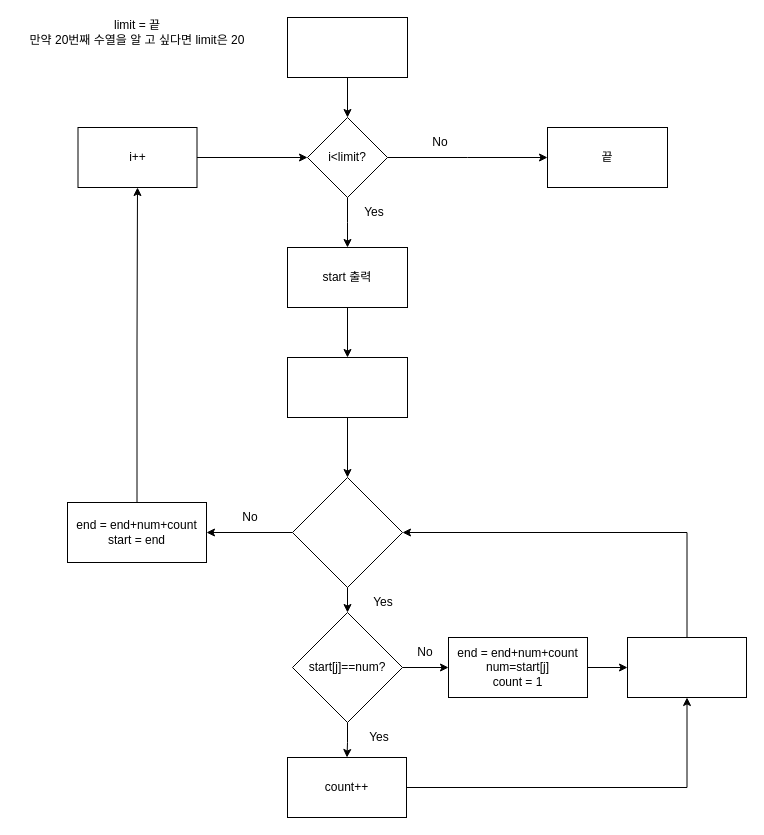
Image size: 764x835. Some labels were removed from this diagram. The shapes that lost their labels are listed below. From the top down, each one's centre as x and y in pixels, then its label:
point (347, 47): start="1" i = 0
point (347, 387): num=start[0] end = "" count = 0 j = 0
point (347, 532): j<start길이
point (686, 667): j++
